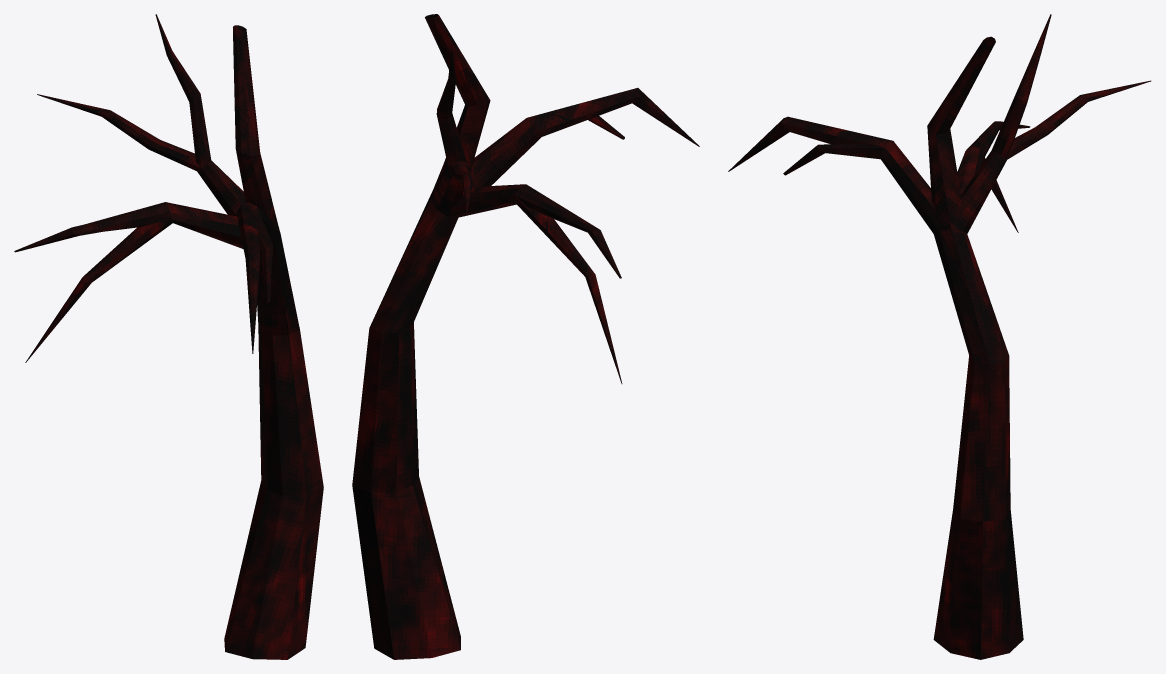
The model's file is Rot_Tree01.glb.
3 renders of one model, left to right at view 1: azimuth 30°, elevation 25°; view 2: azimuth 150°, elevation 25°; view 3: azimuth 270°, elevation 25°, orthographic. The views are drawn at different scales.
Visible parts, largest first — view 1: Cube-col; view 2: Cube-col; view 3: Cube-col.
Boxes of the visible parts, box(x1,y1,x2,y2) form: Cube-col: box(14, 14, 323, 659); Cube-col: box(352, 14, 699, 659); Cube-col: box(728, 14, 1151, 659).
Bounding box in the file's own units: 8.88 × 18.91 × 12.22.
Materials: 1 (1 with a texture image).
